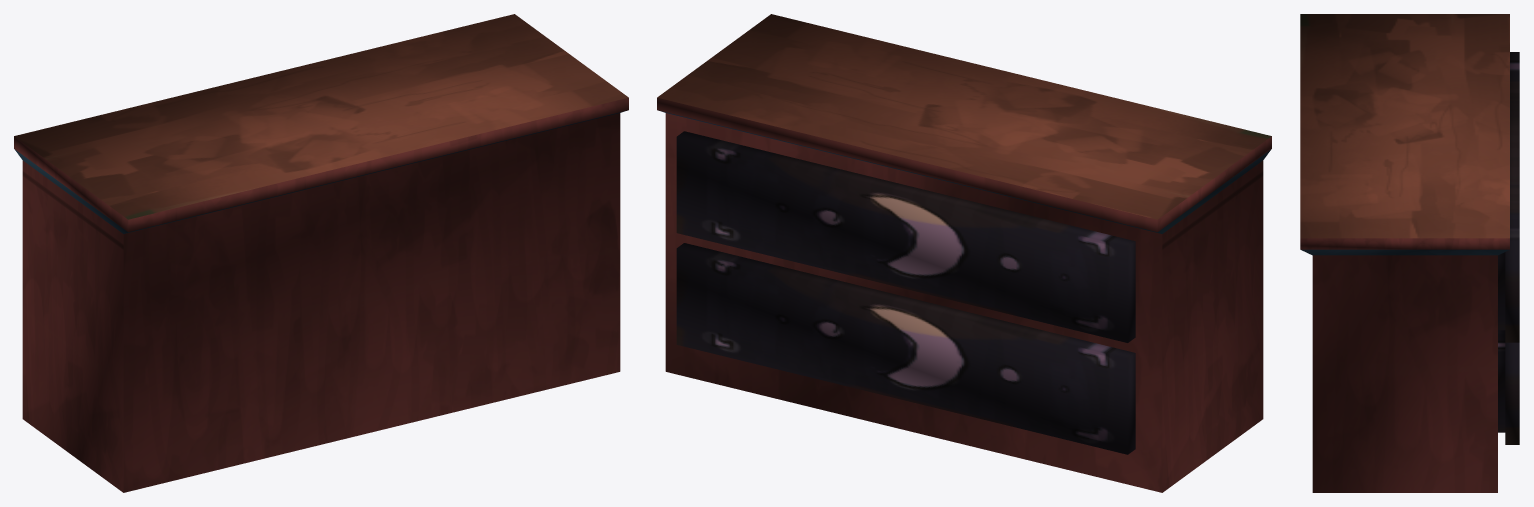
The model's file is EstantePequena.fbx.
3 renders of one model, left to right at view 1: azimuth 30°, elevation 25°; view 2: azimuth 150°, elevation 25°; view 3: azimuth 270°, elevation 25°, orthographic. The views are drawn at different scales.
Parts seen in each view (by area): view 1: Cube.075; view 2: Cube.075; view 3: Cube.075.
Part boxes in pixels (bbox=[...]): Cube.075: bbox=[14, 14, 628, 492]; Cube.075: bbox=[657, 14, 1271, 492]; Cube.075: bbox=[1300, 14, 1519, 492].
Bounding box in the file's own units: 265 × 109 × 141.
